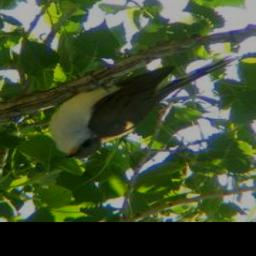Cuckoo: (48, 55, 246, 160)
